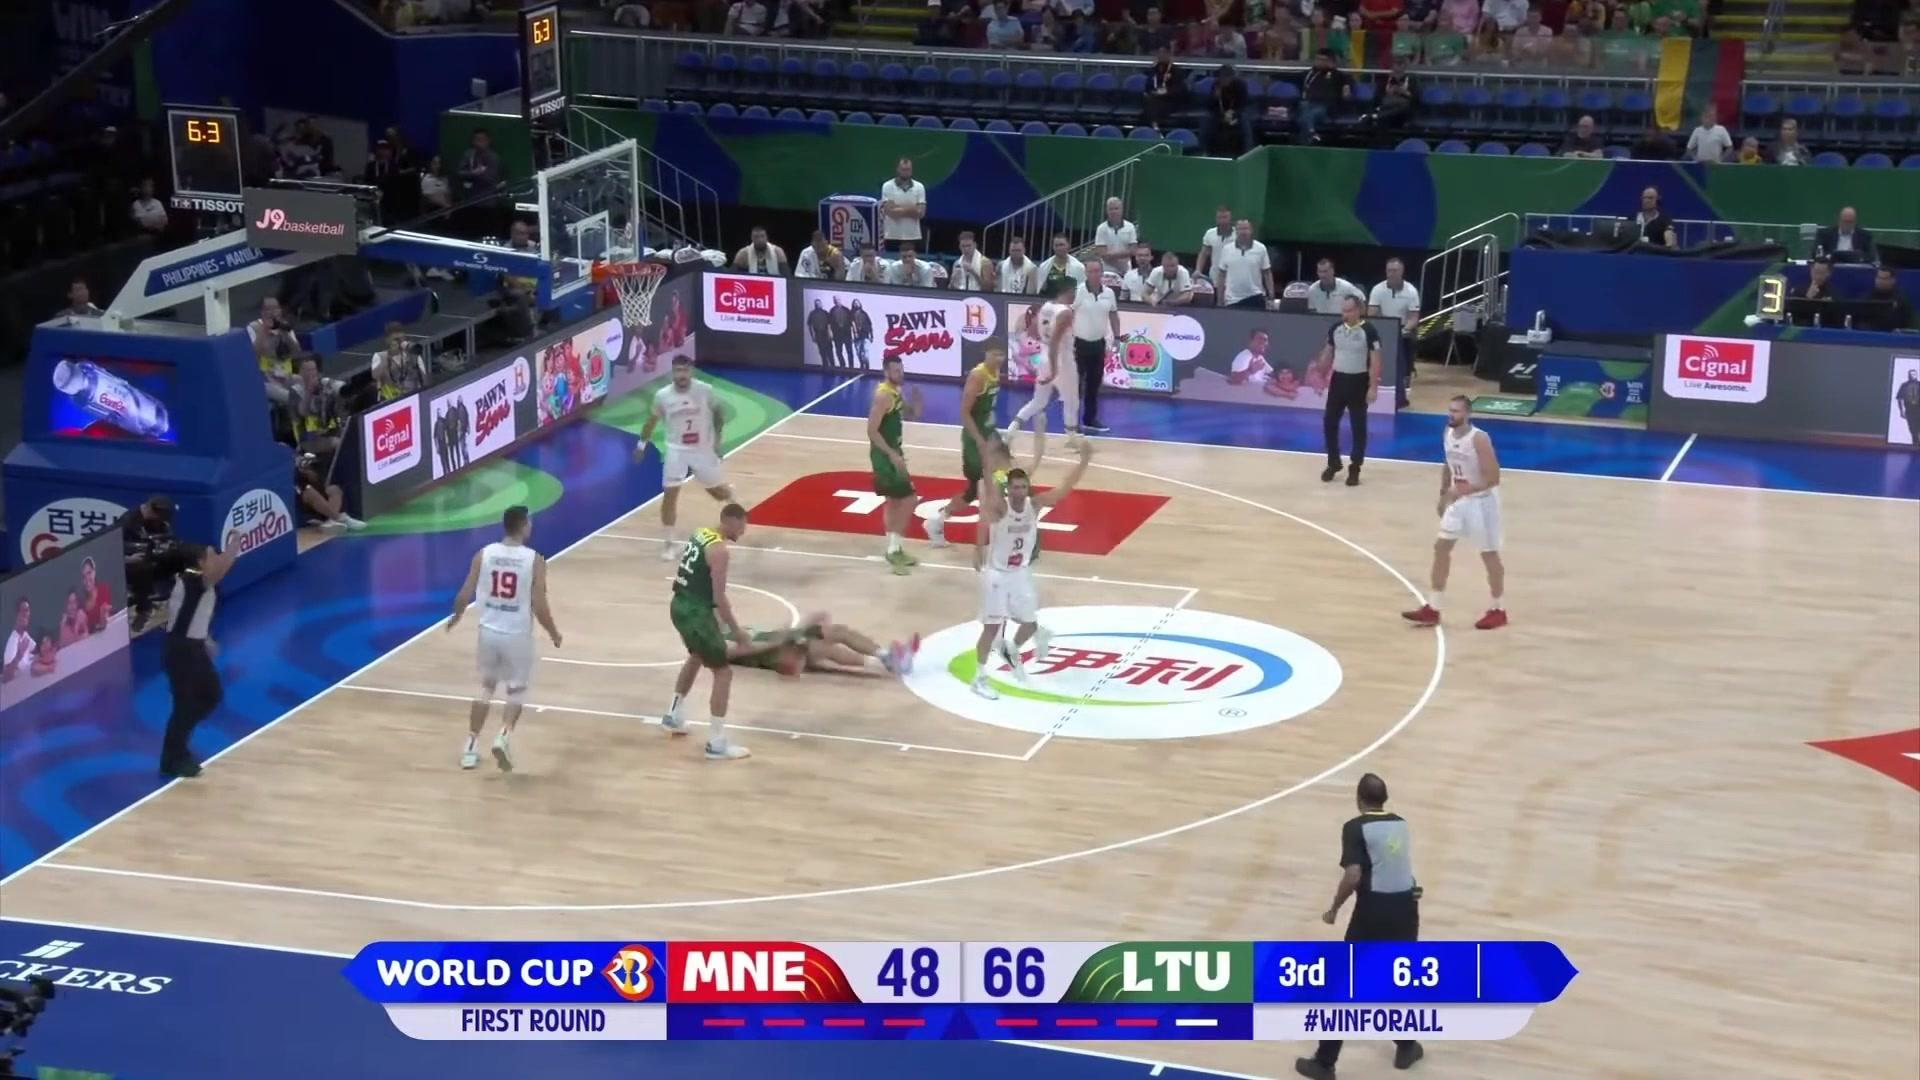foul: (667, 537, 928, 723)
